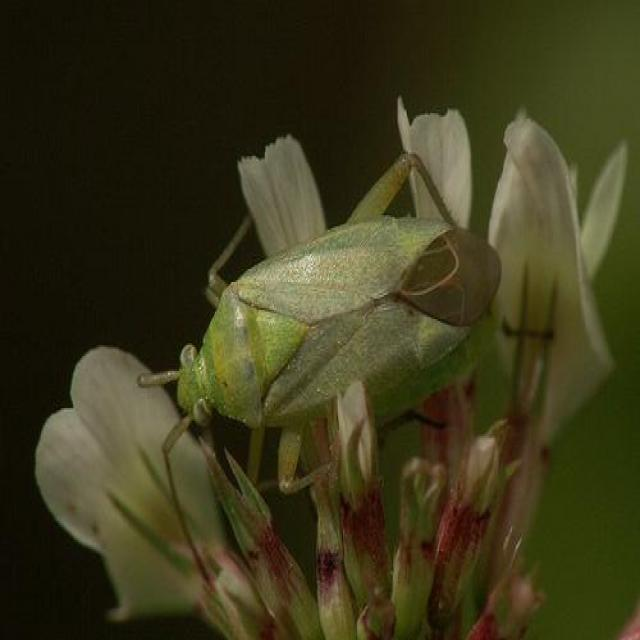Miridae-Adult-: (135, 150, 530, 506)
